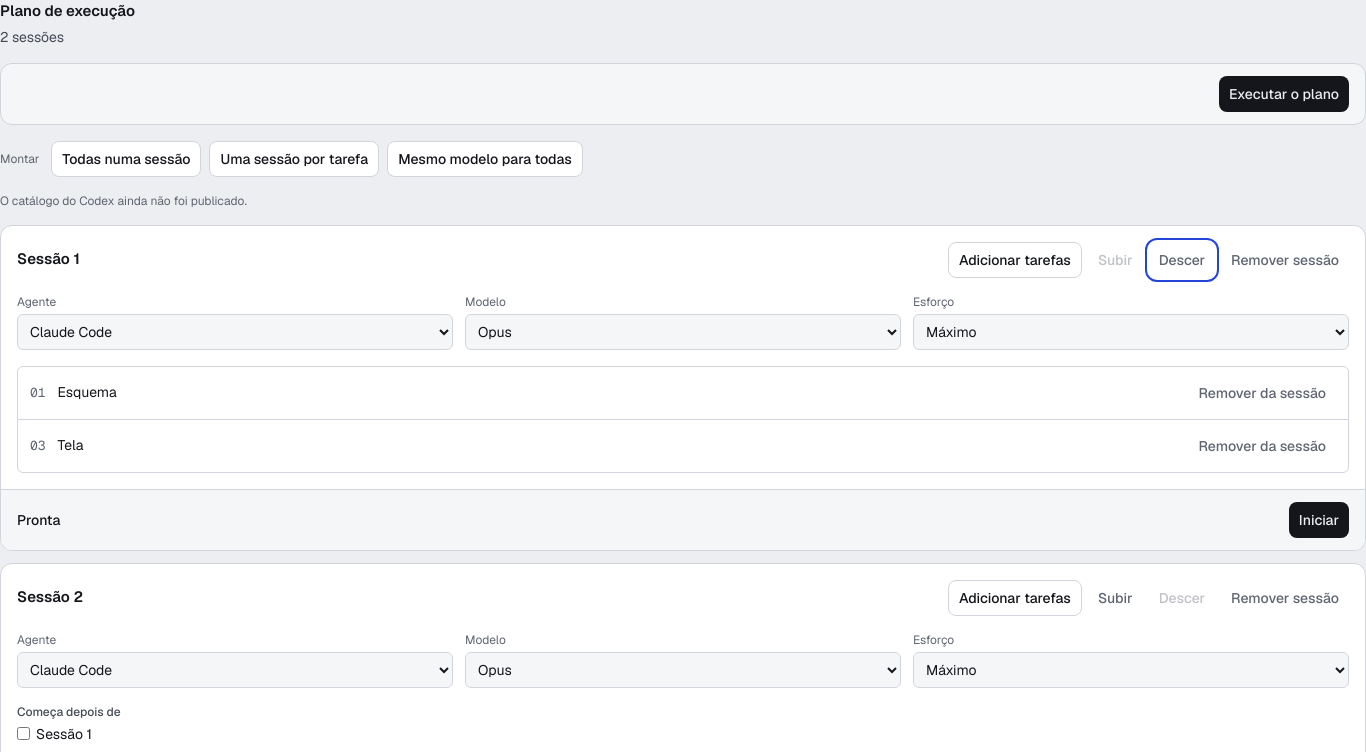
Test: ExecutionPlanEditor with sessions as molds › V-08e reorders by keyboard, disables the moves past the ends and names the drop targets
Press Enter
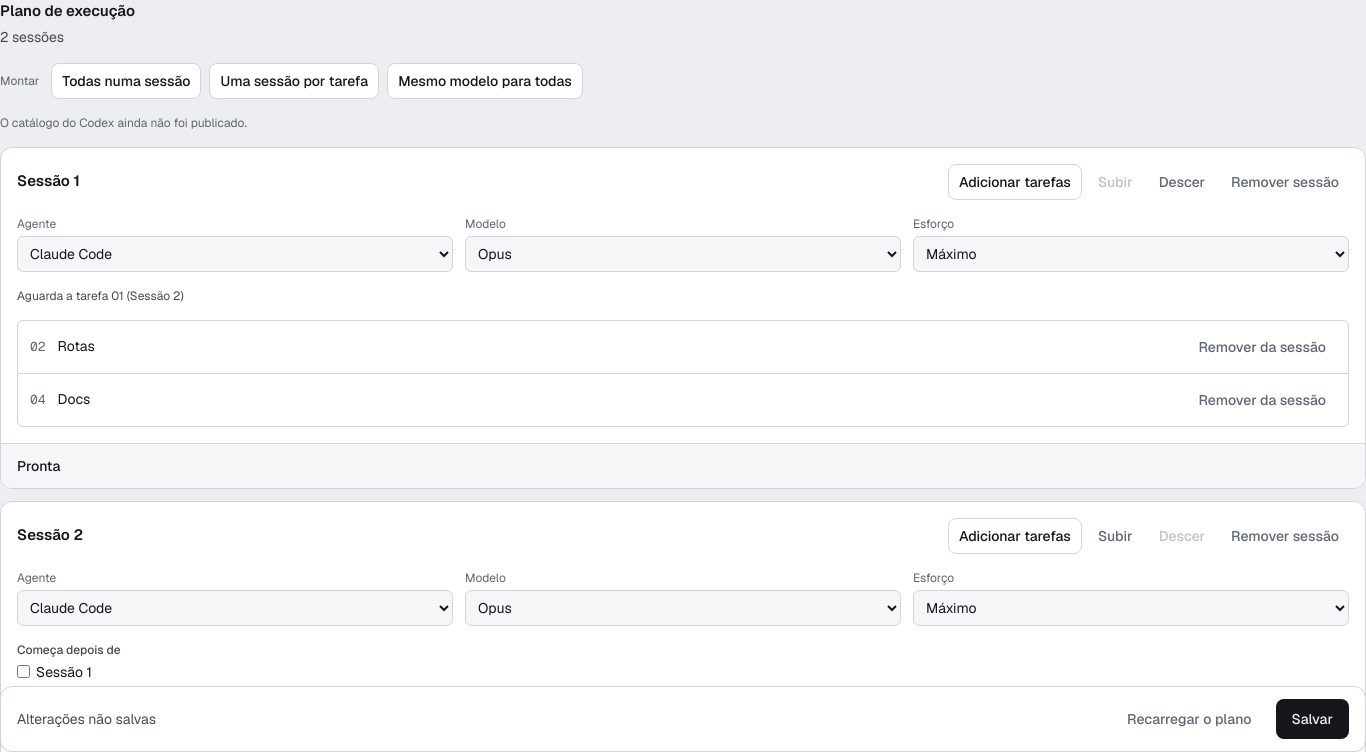
Expected: the list item "Sessão 1" is shown, [0,146,1365,488]
Click the button "Remover da sessão" in the row of "02": [1262, 346] box [1188,328,1336,364]
(page scrolled)
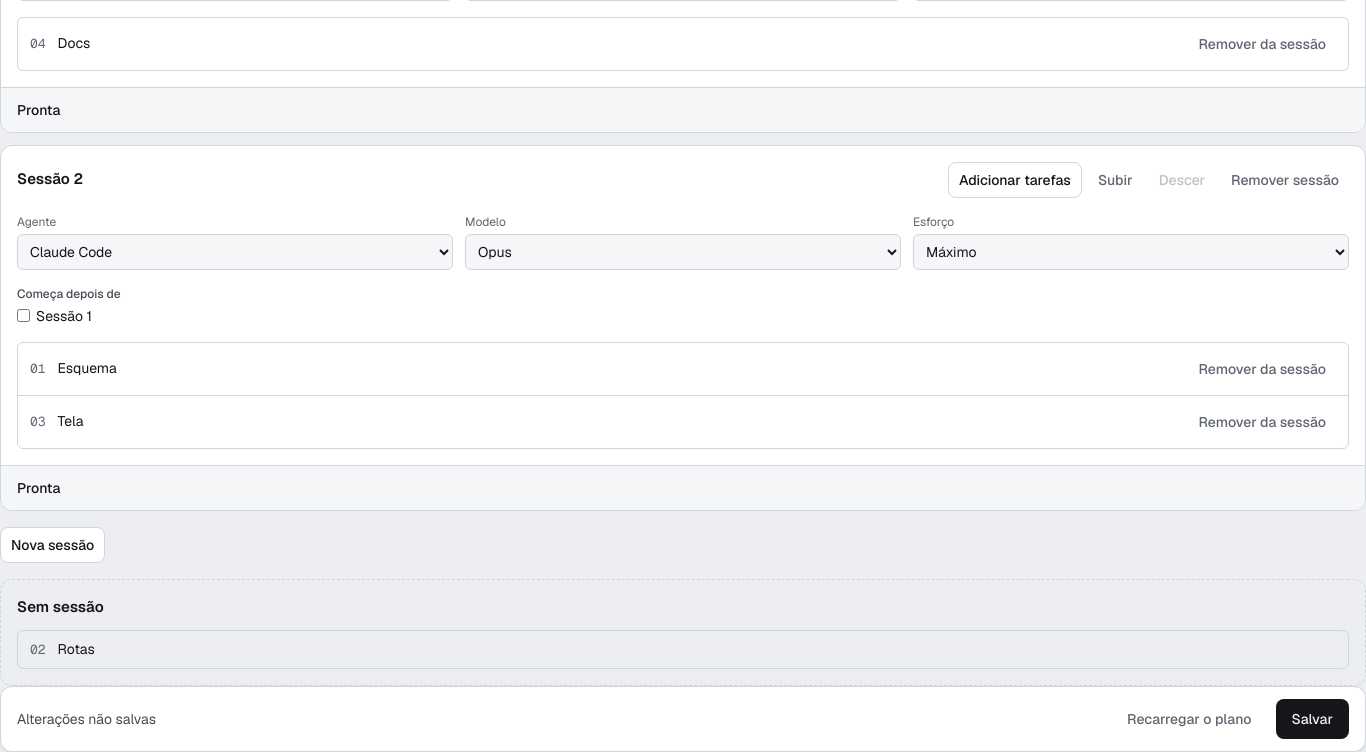
Result: the element "Sem sessão" is shown at [0,578,1365,686]
